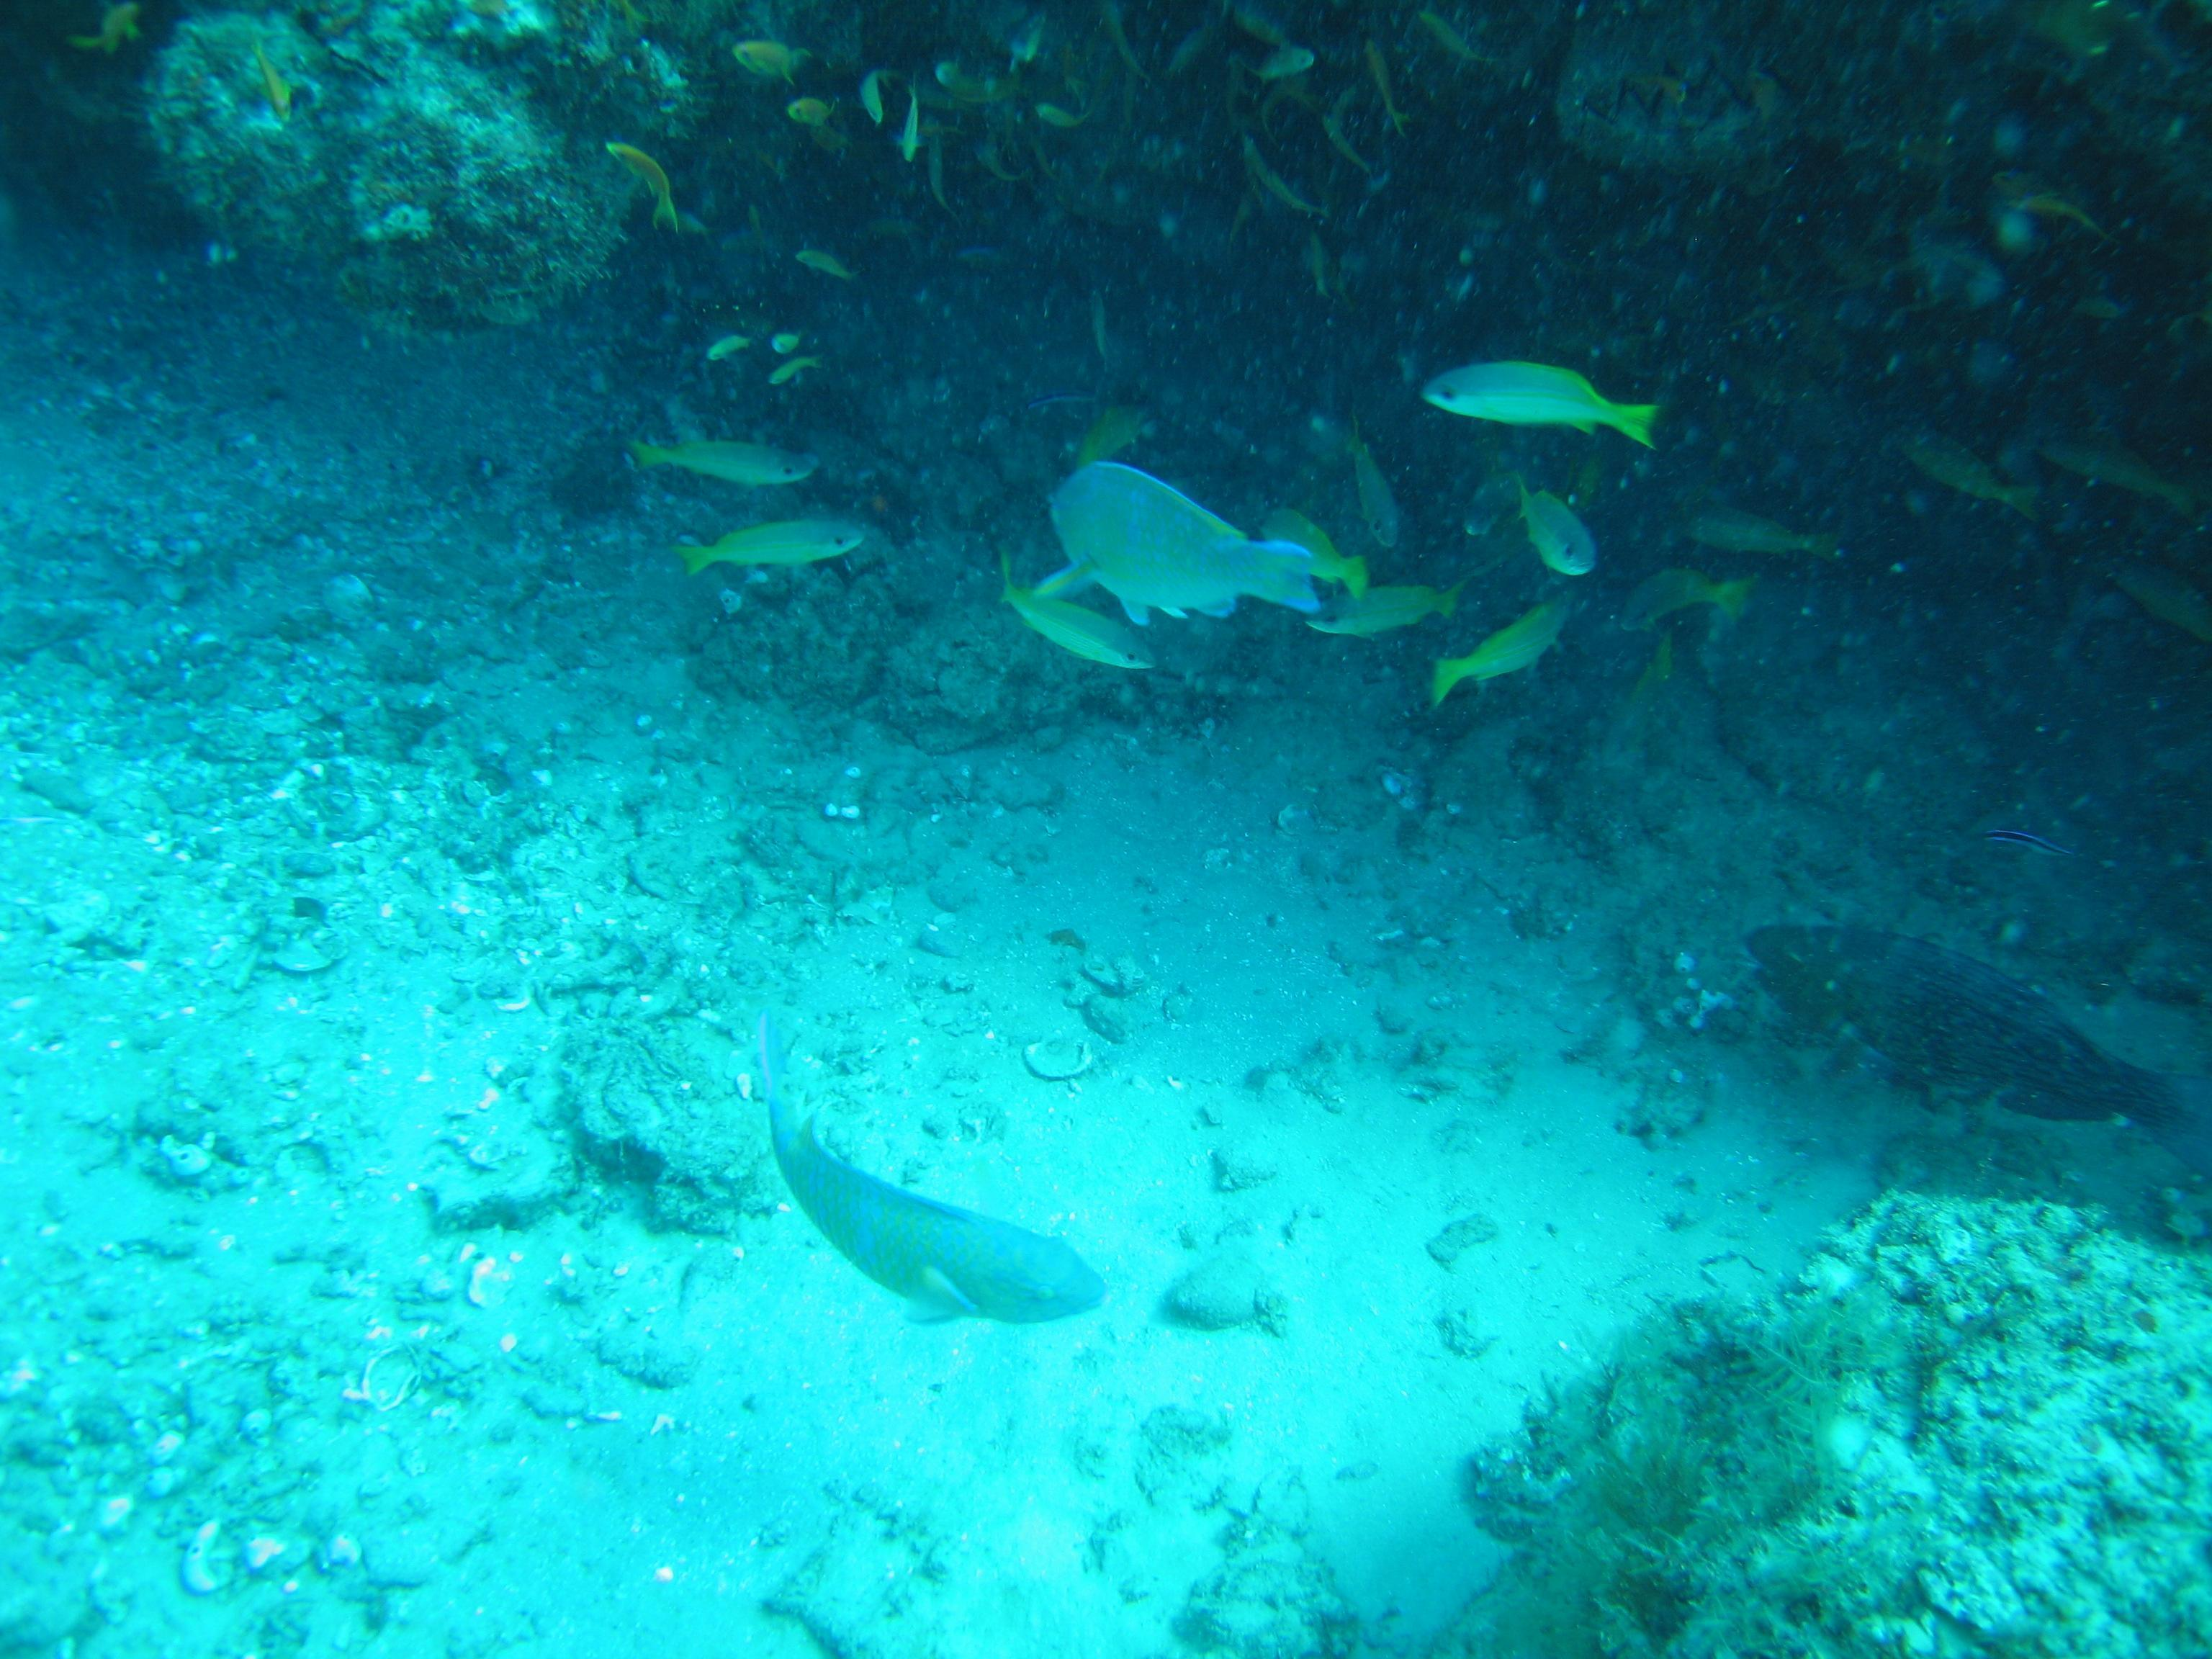Scarus ghobban: (660, 992, 1165, 1410), (1015, 415, 1346, 741)
